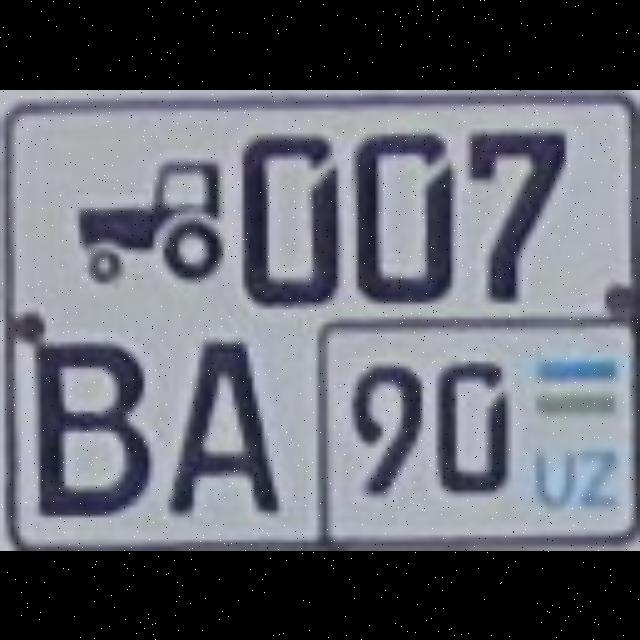0: (234, 128, 332, 298), (352, 128, 446, 298), (432, 356, 506, 486)
7: (462, 124, 556, 292)
9: (348, 362, 417, 491)
A: (164, 337, 272, 506)
B: (30, 342, 144, 510)
